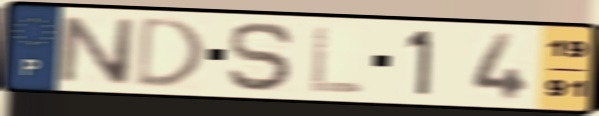1: (402, 28, 434, 98)
4: (469, 29, 533, 103)
D: (131, 14, 208, 90)
L: (306, 23, 367, 96)
N: (56, 12, 136, 87)
S: (225, 19, 298, 94)
